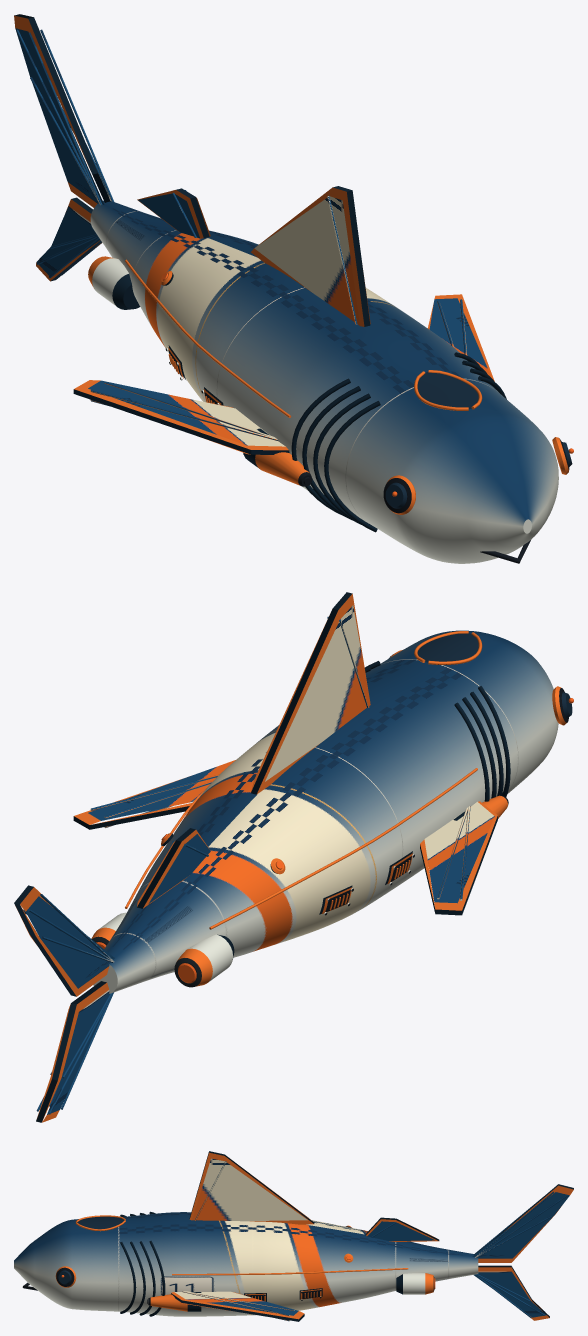
The picture shows the model from 3 angles, top to bottom: view 1: azimuth 30°, elevation 25°; view 2: azimuth 150°, elevation 25°; view 3: azimuth 270°, elevation 25°; orthographic projection. The views are drawn at different scales.
Visible parts, largest first — view 1: tiger_shark_hull; view 2: tiger_shark_hull; view 3: tiger_shark_hull.
Boxes of the visible parts, x1=… form: tiger_shark_hull: x1=14, y1=14, x2=573, y2=563; tiger_shark_hull: x1=14, y1=592, x2=573, y2=1122; tiger_shark_hull: x1=14, y1=1151, x2=573, y2=1321.
Size of the model in its own units: 105 by 79.56 by 240.
1 material, 1 textured.
